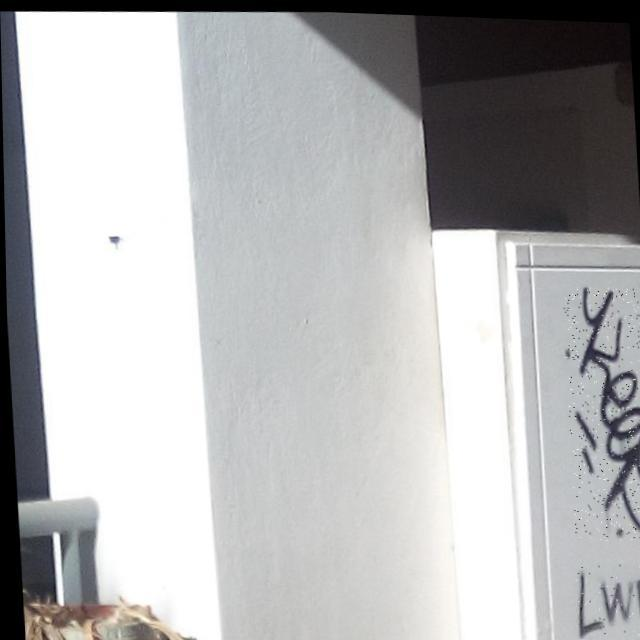-: (560, 280, 640, 538), (570, 556, 640, 634)
